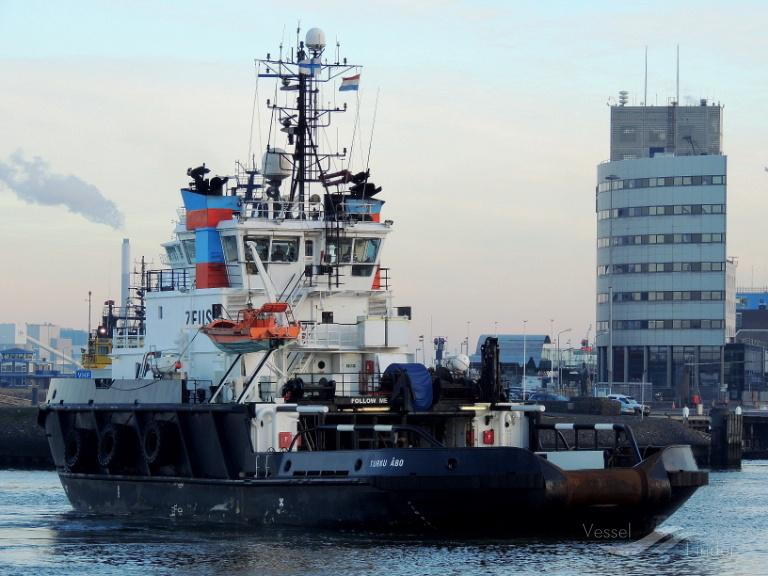OCR: (364, 451, 409, 474), (176, 302, 214, 328)
